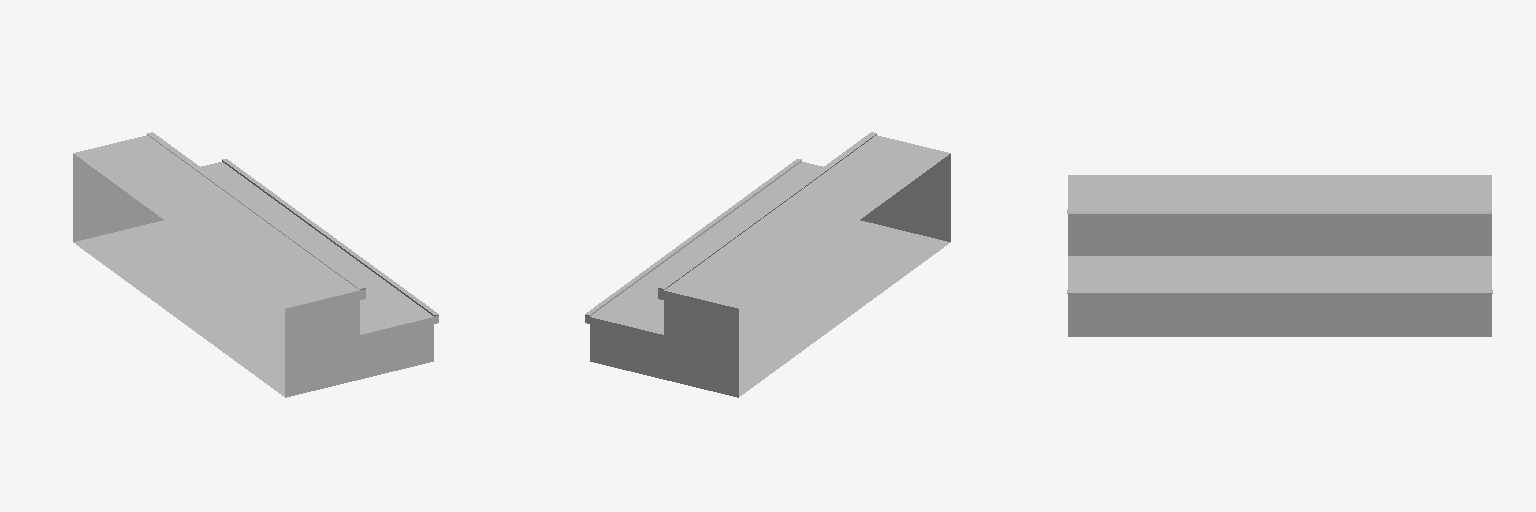
File: stair.obj
3 renders of one model, left to right at view 1: azimuth 30°, elevation 25°; view 2: azimuth 150°, elevation 25°; view 3: azimuth 270°, elevation 25°, orthographic.
Parts seen in each view (by area): view 1: Cube.001; view 2: Cube.001; view 3: Cube.001.
Boxes of the visible parts, <box> form: Cube.001: <box>73,132,438,397</box>; Cube.001: <box>585,132,950,397</box>; Cube.001: <box>1067,175,1492,336</box>.
Size of the model in its own units: 0.9013 by 0.5093 by 2.17.